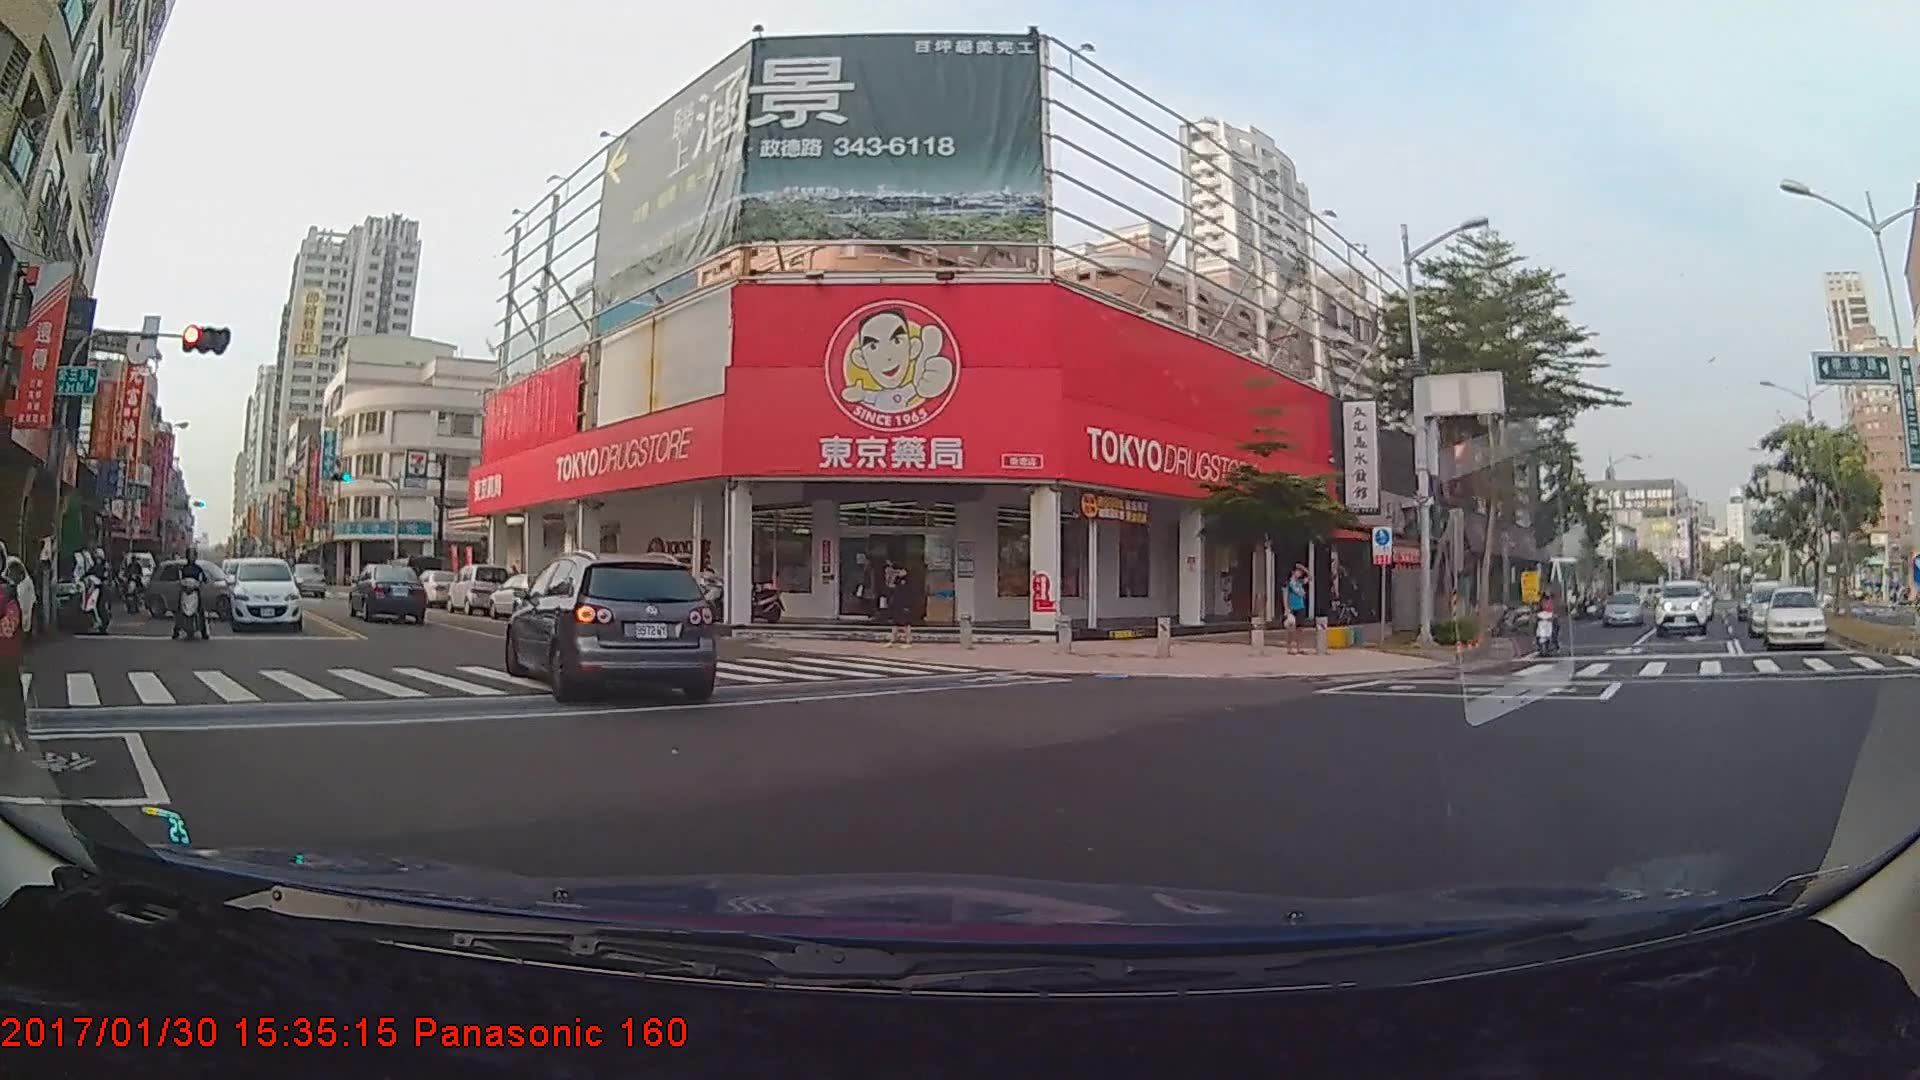pedestrian: (882, 563, 925, 651), (1283, 561, 1317, 660), (854, 551, 880, 626)
rider: (169, 550, 215, 647), (72, 545, 118, 633), (1530, 588, 1568, 657)
vehicle: (508, 550, 716, 701), (143, 557, 244, 618), (225, 556, 303, 633), (349, 562, 426, 624), (487, 569, 573, 620), (1767, 591, 1825, 651), (1747, 582, 1809, 638), (444, 561, 509, 614), (1653, 578, 1708, 636), (1601, 591, 1643, 627)
